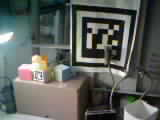duck: (21, 47, 48, 72)
